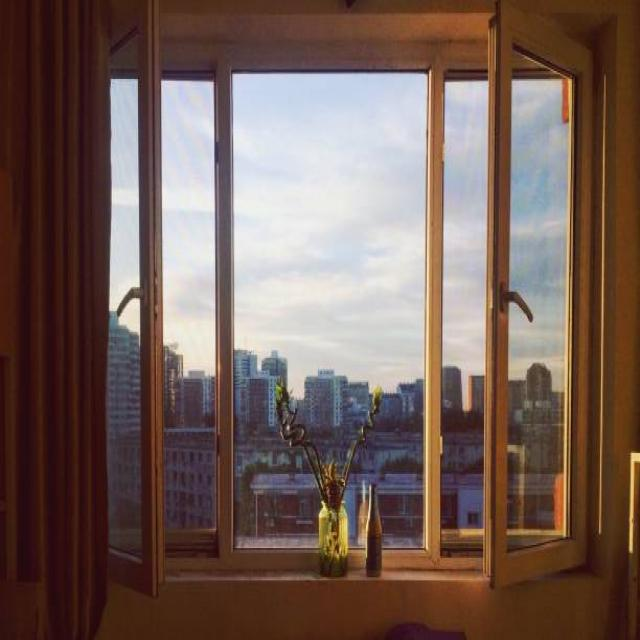Window: (102, 34, 588, 588)
